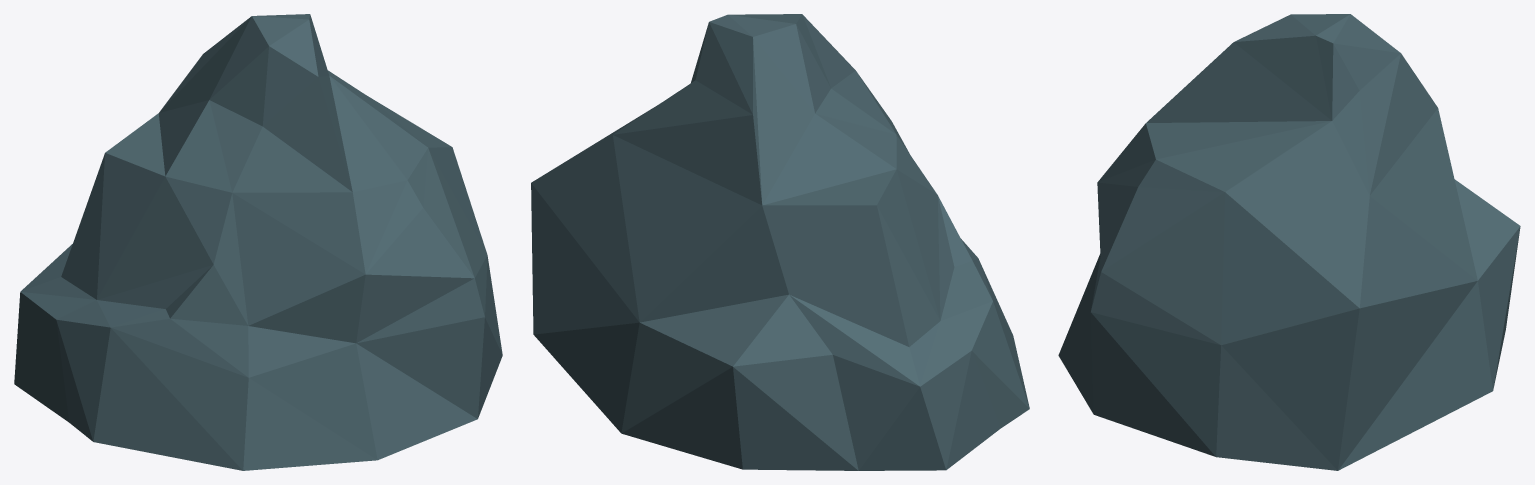
The model's file is stone1.fbx.
3 renders of one model, left to right at view 1: azimuth 30°, elevation 25°; view 2: azimuth 150°, elevation 25°; view 3: azimuth 270°, elevation 25°, orthographic. The views are drawn at different scales.
Visible parts, largest first — view 1: Box014; view 2: Box014; view 3: Box014.
Part boxes in pixels (x1,y1,x2,y2): Box014: [14, 14, 502, 470]; Box014: [531, 14, 1029, 470]; Box014: [1058, 14, 1520, 470].
Bounding box in the file's own units: 8.09 × 6.16 × 7.39.
